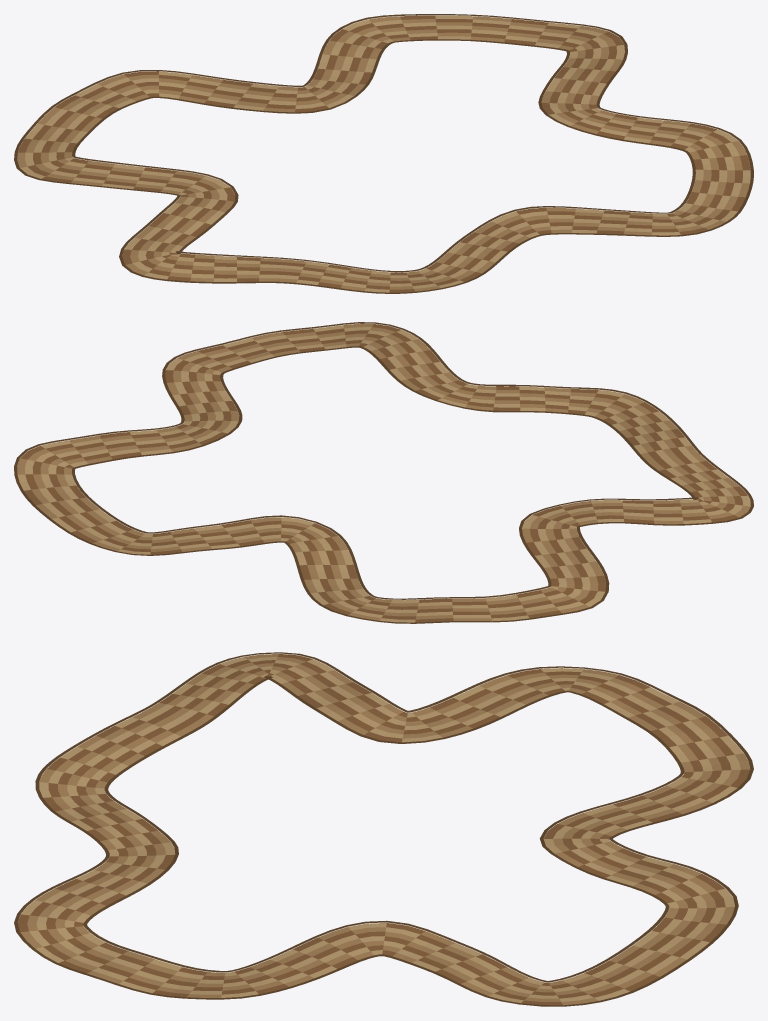
The model's file is sand_brick_track_loop.gltf.
3 views of the same model, one above another, from view 1: azimuth 30°, elevation 25°; view 2: azimuth 150°, elevation 25°; view 3: azimuth 270°, elevation 25° (orthographic). The views are drawn at different scales.
Visible parts, largest first — view 1: SandBrickTrackLoopAsset, InnerSandstoneEdgeAsset, OuterSandstoneEdgeAsset; view 2: SandBrickTrackLoopAsset, InnerSandstoneEdgeAsset, OuterSandstoneEdgeAsset; view 3: SandBrickTrackLoopAsset, InnerSandstoneEdgeAsset, OuterSandstoneEdgeAsset.
Boxes of the visible parts, x1,y1,x2,y2 form: SandBrickTrackLoopAsset: (17, 15, 750, 292); InnerSandstoneEdgeAsset: (14, 14, 753, 293); OuterSandstoneEdgeAsset: (72, 39, 695, 272); SandBrickTrackLoopAsset: (17, 323, 750, 622); InnerSandstoneEdgeAsset: (14, 322, 753, 623); OuterSandstoneEdgeAsset: (72, 346, 698, 599); SandBrickTrackLoopAsset: (18, 654, 749, 1005); InnerSandstoneEdgeAsset: (14, 652, 753, 1006); OuterSandstoneEdgeAsset: (83, 676, 684, 982).
Bounding box in the file's own units: 167 × 3.06 × 147.
